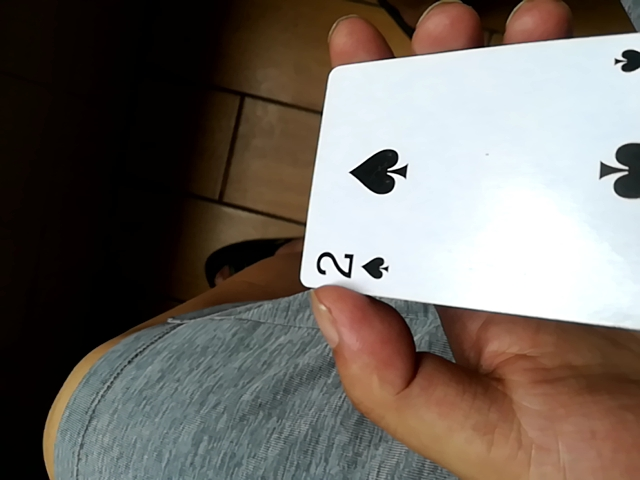ht 2: (299, 25, 640, 338)
